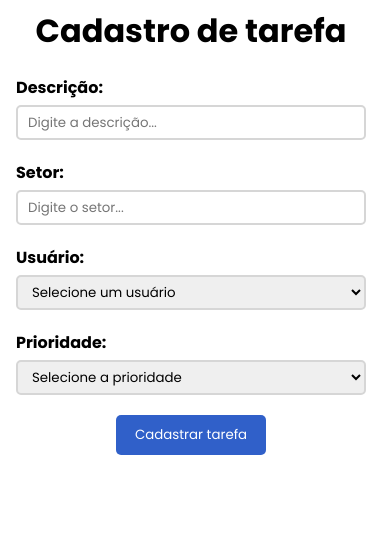
Scenario: CadTarefa - testes completos › Erro se setor < 2 caracteres
Type "Descrição válida" into the field labelled "Descrição:" at (191, 122), box [16,105,366,140]
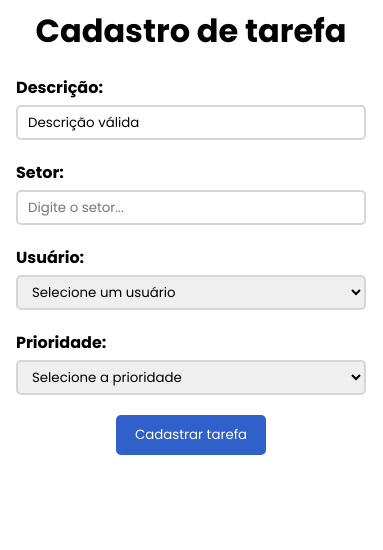
Type "A" into the field labelled "Setor:" at (191, 208), box [16,190,366,225]
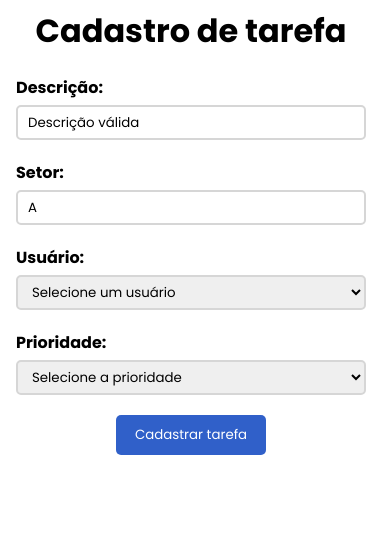
Click the button "Cadastrar tarefa" at (191, 435), box [116,415,266,455]
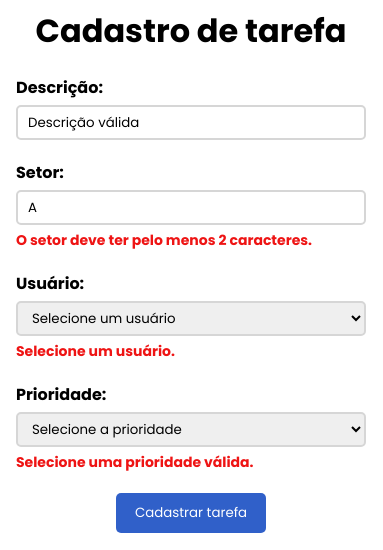
Expected: the text "O setor deve ter pelo menos 2 caracteres." is shown, [16,230,312,250]
